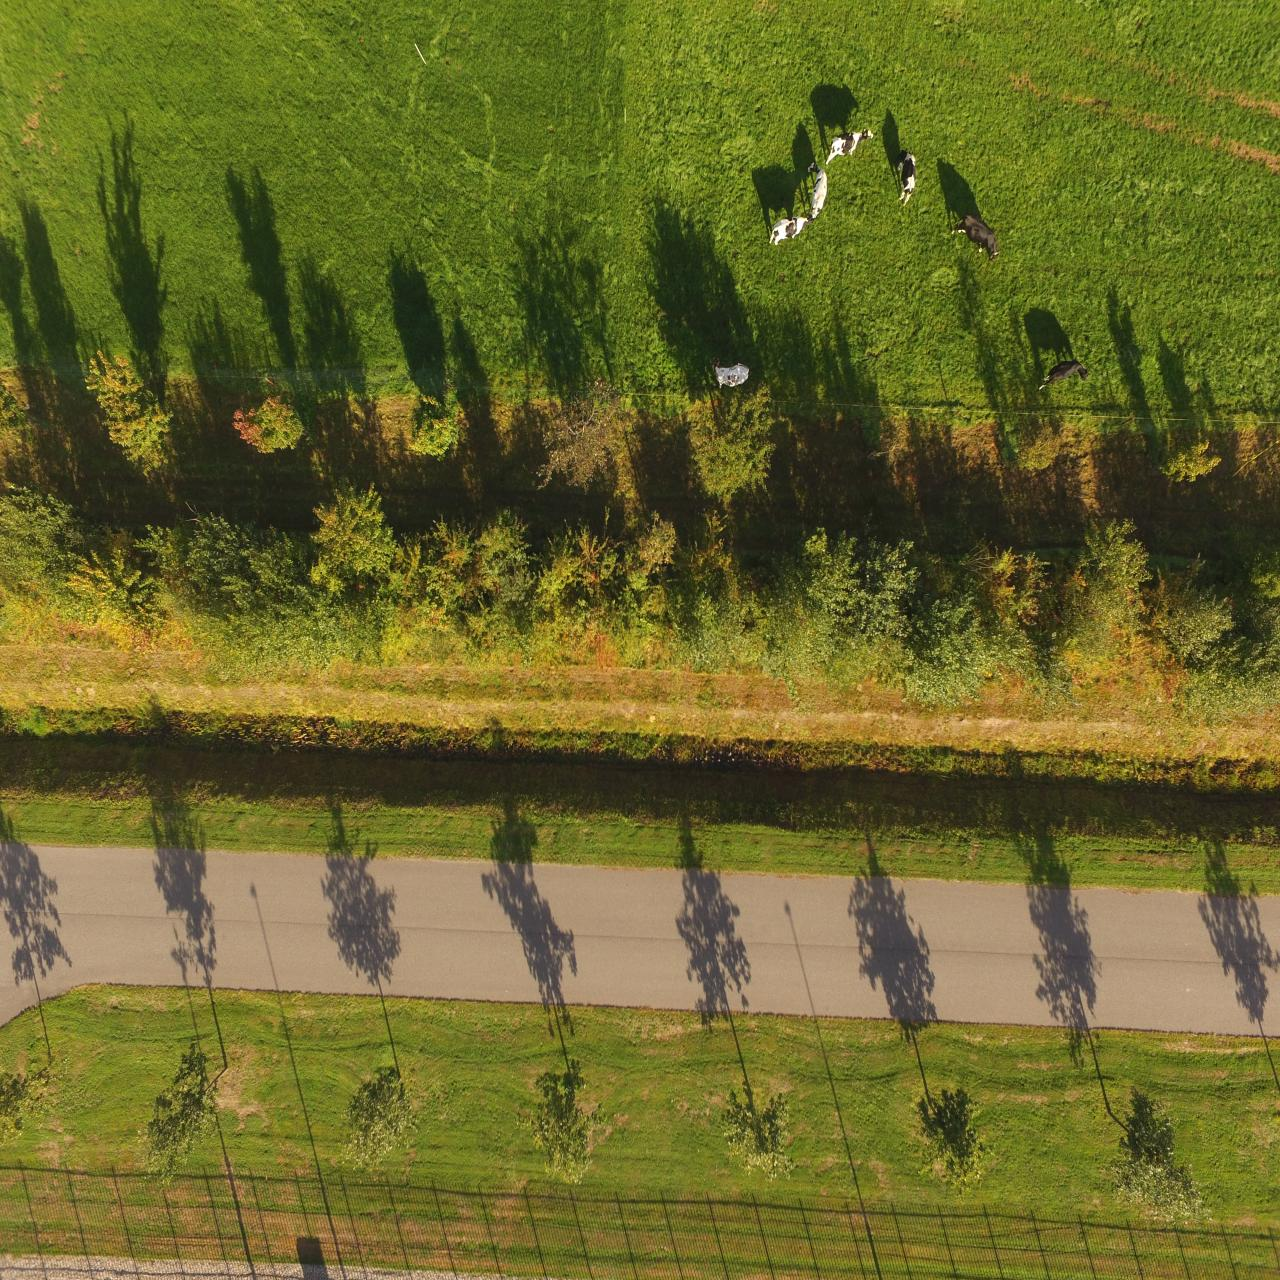cow: (803, 163, 838, 217), (1037, 359, 1088, 395), (828, 123, 873, 162), (959, 210, 995, 258), (707, 359, 750, 388), (897, 148, 918, 206), (764, 218, 821, 237)
